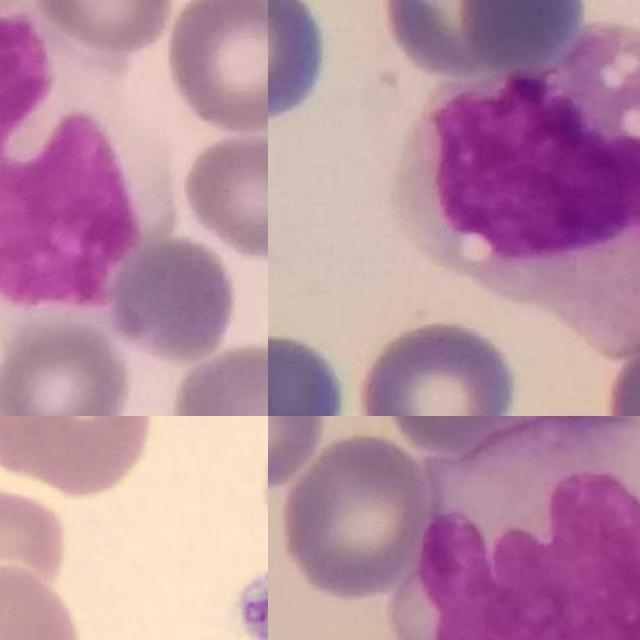Monocyte: (392, 20, 640, 358), (399, 416, 640, 640), (0, 0, 166, 310)
Platelets: (227, 553, 268, 640)
RBC: (0, 416, 160, 505), (158, 416, 268, 528), (0, 483, 71, 601), (0, 562, 88, 640), (256, 422, 268, 553)
